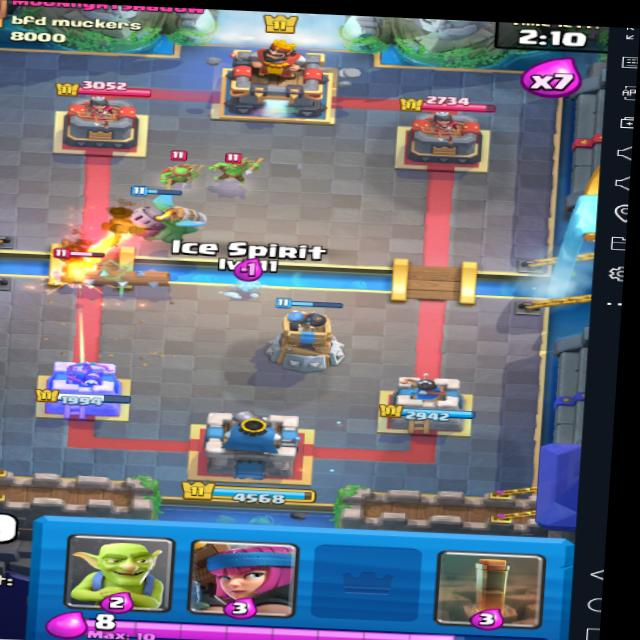monk: (43, 249, 111, 296)
monk-ability: (47, 248, 109, 292)
spear-goblin: (153, 150, 200, 188), (212, 153, 259, 189)
